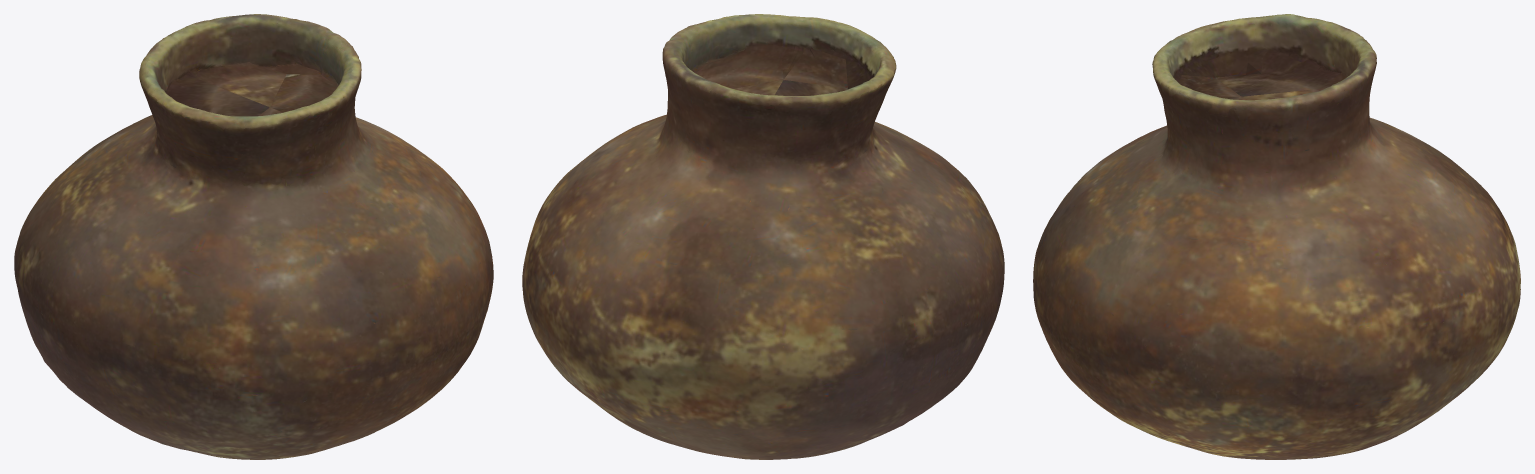
File: Ark_HM_654_HI.glb
3 renders of one model, left to right at view 1: azimuth 30°, elevation 25°; view 2: azimuth 150°, elevation 25°; view 3: azimuth 270°, elevation 25°, orthographic.
Bounding box in the file's own units: 0.4898 × 0.4278 × 0.4996.
Materials: 1 (1 with a texture image).
